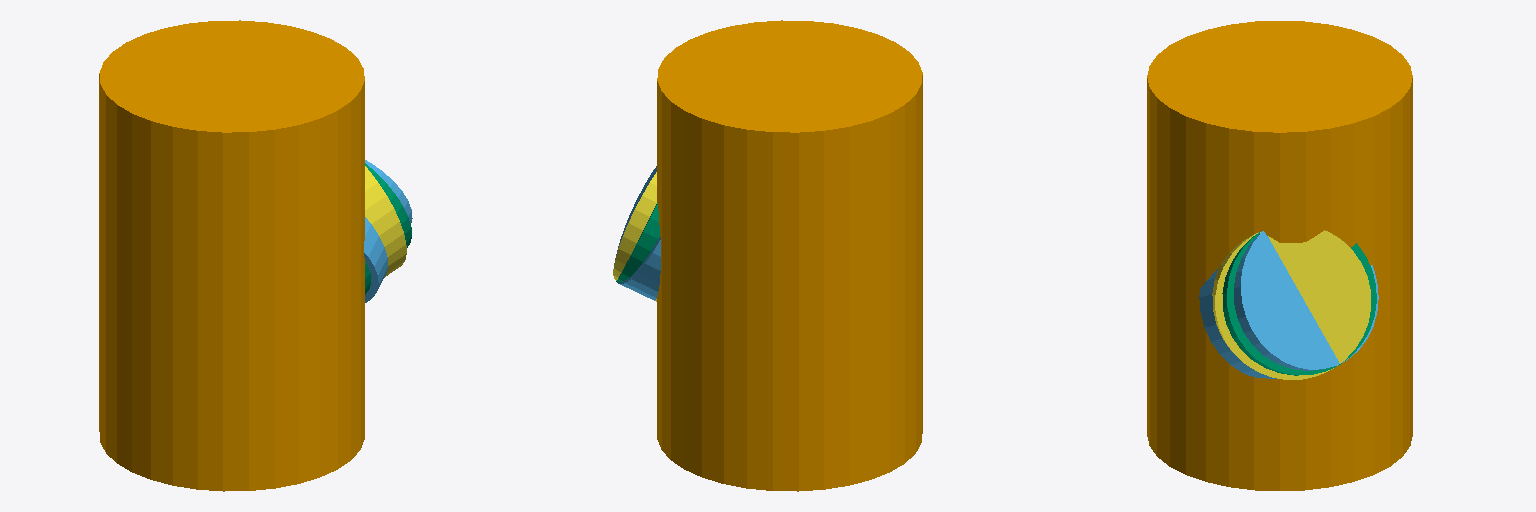
URDF robot description (pepe):
<?xml version="1.0"?><robot name="pepe">
	<link name="0">
		<visual>
			<geometry>
				<cylinder length="2.9780468539074367" radius="0.9999"/>
			</geometry>
		</visual>
		<collision>
			<geometry>
				<cylinder length="2.9780468539074367" radius="0.9999"/>
			</geometry>
		</collision>
		<inertial>
			<mass value="9.353939049816244"/>
			<inertia ixx="0.03" iyy="0.03" izz="0.03" ixy="0" ixz="0" iyx="0"/>
		</inertial>
	</link>
	<link name="11">
		<visual>
			<geometry>
				<cylinder length="0.6470309353895467" radius="0.5925015364222511"/>
			</geometry>
		</visual>
		<collision>
			<geometry>
				<cylinder length="0.6470309353895467" radius="0.5925015364222511"/>
			</geometry>
		</collision>
		<inertial>
			<mass value="0.7135984199554576"/>
			<inertia ixx="0.03" iyy="0.03" izz="0.03" ixy="0" ixz="0" iyx="0"/>
		</inertial>
	</link>
	<link name="12">
		<visual>
			<geometry>
				<cylinder length="0.6470309353895467" radius="0.5925015364222511"/>
			</geometry>
		</visual>
		<collision>
			<geometry>
				<cylinder length="0.6470309353895467" radius="0.5925015364222511"/>
			</geometry>
		</collision>
		<inertial>
			<mass value="0.7135984199554576"/>
			<inertia ixx="0.03" iyy="0.03" izz="0.03" ixy="0" ixz="0" iyx="0"/>
		</inertial>
	</link>
	<link name="13">
		<visual>
			<geometry>
				<cylinder length="0.6470309353895467" radius="0.5925015364222511"/>
			</geometry>
		</visual>
		<collision>
			<geometry>
				<cylinder length="0.6470309353895467" radius="0.5925015364222511"/>
			</geometry>
		</collision>
		<inertial>
			<mass value="0.7135984199554576"/>
			<inertia ixx="0.03" iyy="0.03" izz="0.03" ixy="0" ixz="0" iyx="0"/>
		</inertial>
	</link>
	<joint name="11_to_0" type="revolute">
		<parent link="0"/>
		<child link="11"/>
		<axis xyz="0 0 1"/>
		<limit effort="1" upper="-3.1415" lower="3.1415" velocity="1"/>
		<origin rpy="0.4675760710472036 0.9990522646238121 1.1224735129172203" xyz="0.8304556917101229 0.06744439119034362 0.04332422215029097"/>
	</joint>
	<joint name="12_to_0" type="revolute">
		<parent link="0"/>
		<child link="12"/>
		<axis xyz="0 0 1"/>
		<limit effort="1" upper="-3.1415" lower="3.1415" velocity="1"/>
		<origin rpy="0.7013641065708054 0.9990522646238121 1.1224735129172203" xyz="0.8304556917101229 0.06744439119034362 0.04332422215029097"/>
	</joint>
	<joint name="13_to_0" type="revolute">
		<parent link="0"/>
		<child link="13"/>
		<axis xyz="0 0 1"/>
		<limit effort="1" upper="-3.1415" lower="3.1415" velocity="1"/>
		<origin rpy="0.9351521420944072 0.9990522646238121 1.1224735129172203" xyz="0.8304556917101229 0.06744439119034362 0.04332422215029097"/>
	</joint>
</robot>

--- Render facts (derived) ---
3 views of the same robot in one strip: view 1: azimuth 30°, elevation 25°; view 2: azimuth 150°, elevation 25°; view 3: azimuth 270°, elevation 25° (orthographic).
Robot: pepe — 4 links, 3 joints (3 revolute); root link 0; default pose: every joint at zero.
Links seen in each view (by area): view 1: 0, 13, 11, 12; view 2: 0, 13, 11, 12; view 3: 0, 11, 13, 12.
Boxes of the visible links, bbox=[...] form: 0: bbox=[99, 20, 364, 491]; 13: bbox=[365, 166, 406, 277]; 11: bbox=[364, 160, 412, 302]; 12: bbox=[365, 163, 411, 294]; 0: bbox=[657, 20, 922, 491]; 13: bbox=[613, 172, 656, 301]; 11: bbox=[616, 166, 660, 300]; 12: bbox=[616, 203, 659, 282]; 0: bbox=[1147, 21, 1412, 490]; 11: bbox=[1199, 231, 1378, 378]; 13: bbox=[1212, 230, 1370, 379]; 12: bbox=[1222, 232, 1376, 375].
Bounding box of the posed robot: 2.47 × 2 × 2.98 m (x, y, z).
Geometry: primitives only (box / cylinder / sphere), no mesh files.
